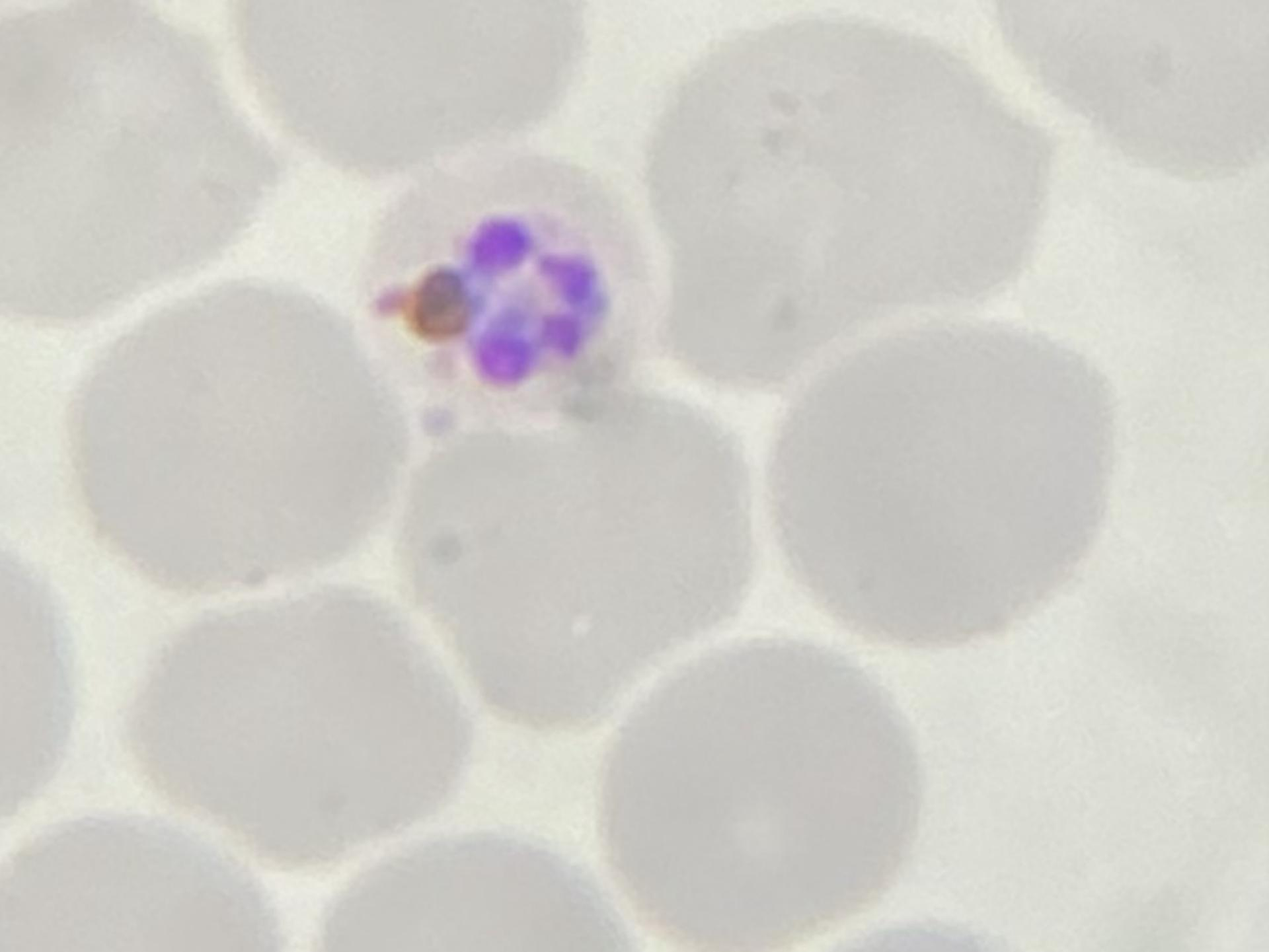Infected: (346, 144, 658, 448)
Uninfected: (654, 18, 1058, 392), (778, 316, 1121, 641), (399, 404, 755, 717), (70, 278, 397, 591), (601, 646, 931, 952), (134, 587, 471, 858), (0, 0, 276, 313), (231, 0, 583, 176)
